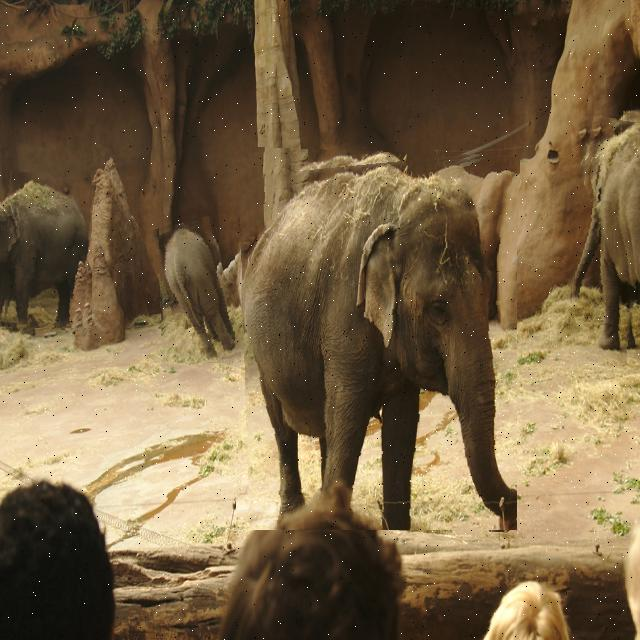elephant: (238, 150, 516, 530), (569, 117, 640, 365), (0, 172, 92, 328), (159, 219, 235, 363)
